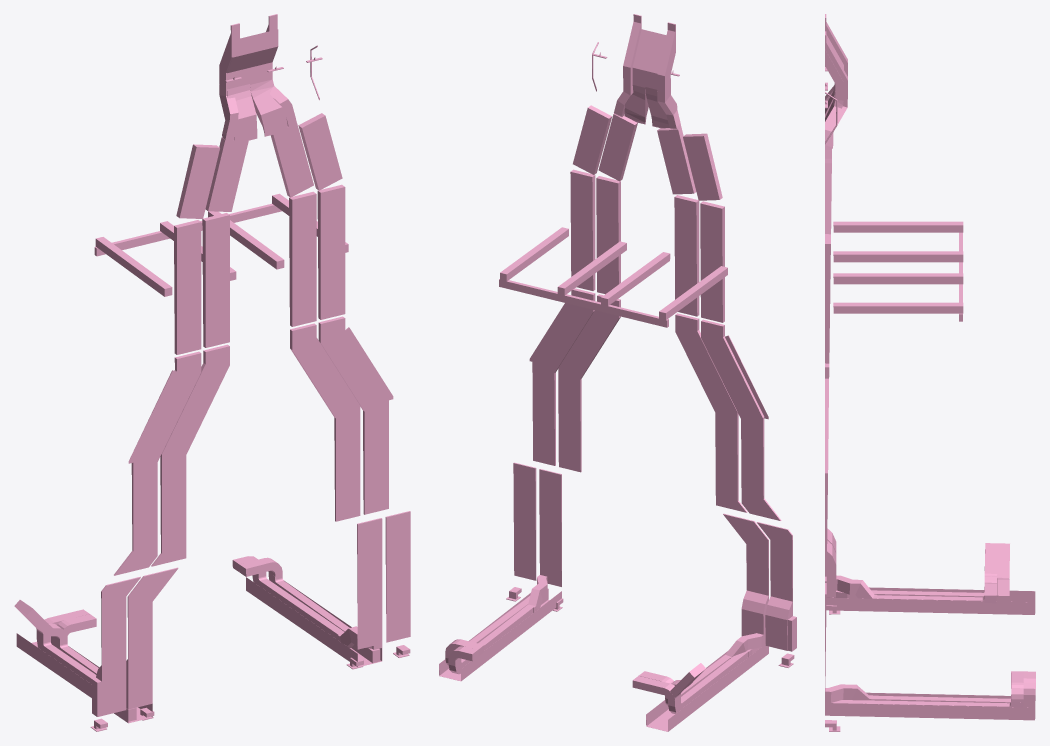
The model's file is Serv-Z0-Sec13-cut1.glb.
The picture shows the model from 3 angles, left to right: view 1: azimuth 30°, elevation 25°; view 2: azimuth 150°, elevation 25°; view 3: azimuth 270°, elevation 25°; orthographic projection. The views are drawn at different scales.
Parts seen in each view (by area): view 1: Serv-Z0-Sec13-cut1, Serv-Z0-Sec13-Frames-cut1; view 2: Serv-Z0-Sec13-cut1, Serv-Z0-Sec13-Frames-cut1; view 3: Serv-Z0-Sec13-Frames-cut1, Serv-Z0-Sec13-cut1.
Boxes of the visible parts, x1,y1,x2,y2 form: Serv-Z0-Sec13-cut1: [14, 14, 410, 721]; Serv-Z0-Sec13-Frames-cut1: [16, 57, 410, 731]; Serv-Z0-Sec13-cut1: [445, 14, 796, 713]; Serv-Z0-Sec13-Frames-cut1: [439, 52, 794, 731]; Serv-Z0-Sec13-Frames-cut1: [825, 66, 1035, 731]; Serv-Z0-Sec13-cut1: [825, 14, 1035, 707].
Size of the model in its own units: 4.13 by 8.5 by 2.55.
